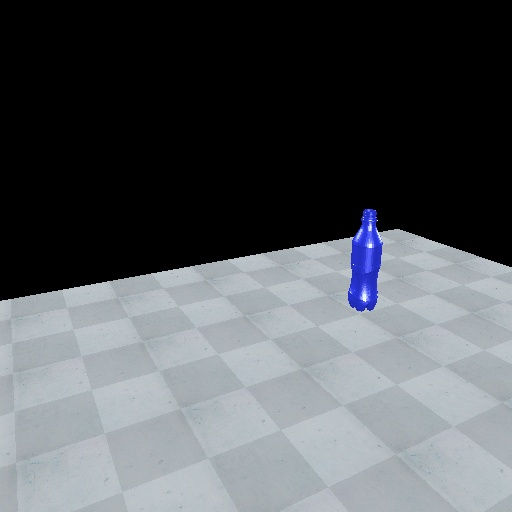bottle: (344, 207, 385, 316)
